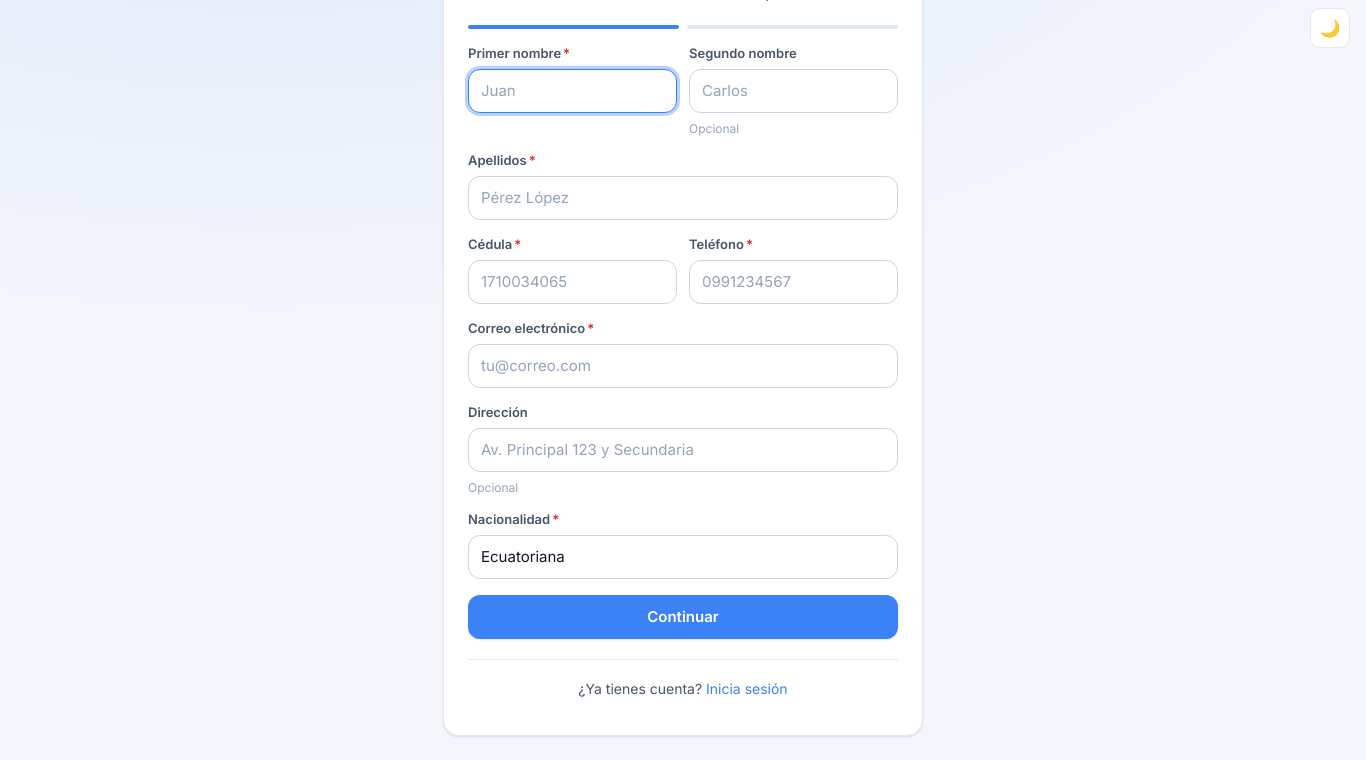
RegistroPage › valida datos personales inválidos y no avanza
(page scrolled)
Click the button "Continuar" at (683, 616), box [468, 594, 898, 638]
(page scrolled)
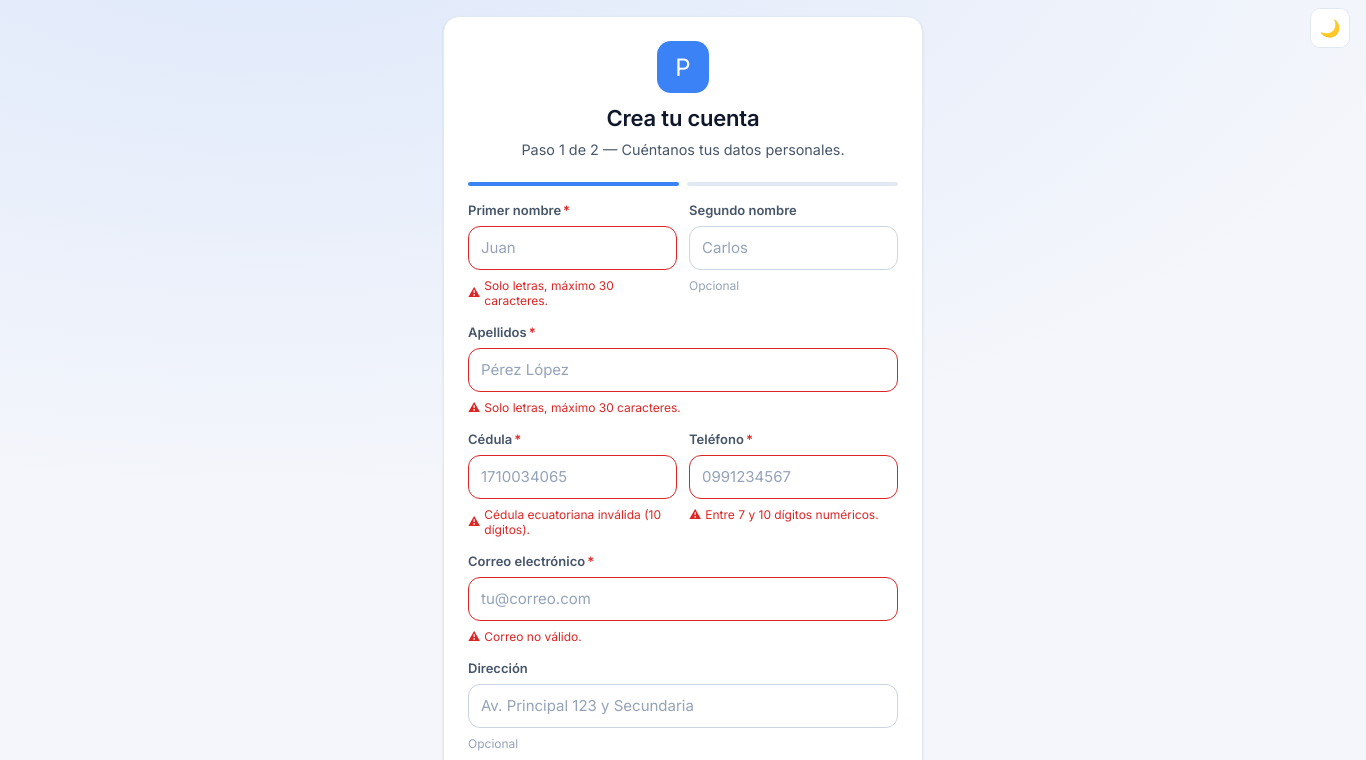
Check: the text "Paso 1 de 2 — Cuéntanos tus datos personales." is shown, box [521, 140, 844, 158]
Check: the text "Cédula ecuatoriana inválida (10 dígitos)." is shown, box [484, 506, 661, 536]
